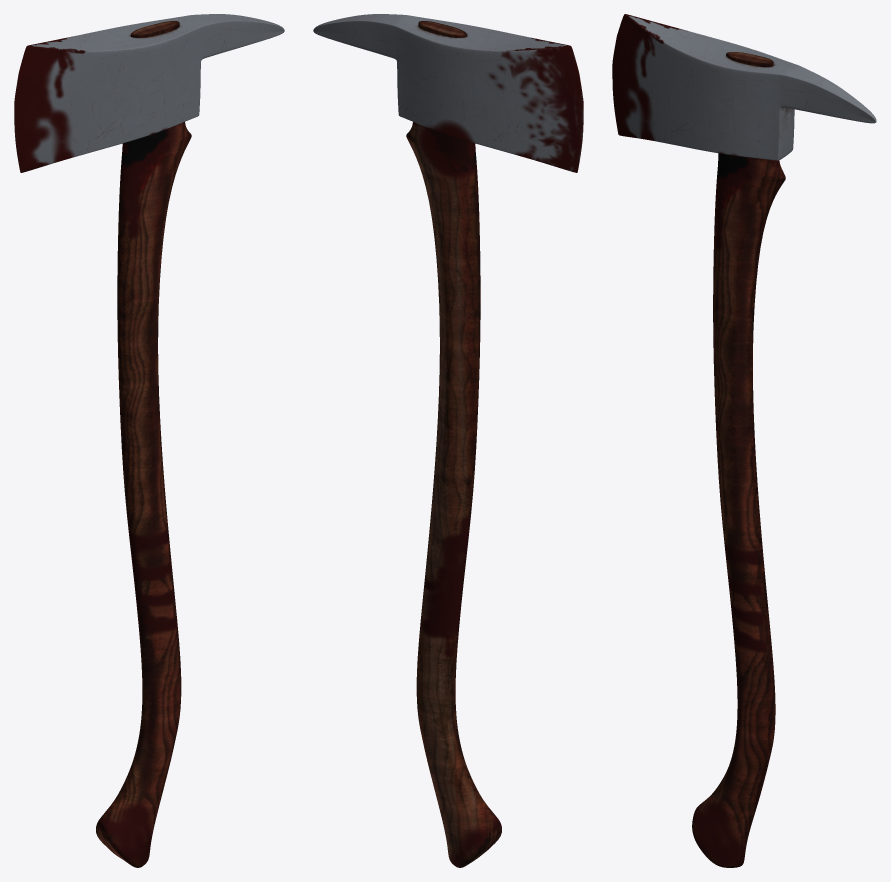
Rendered from Hacha_Sangre.glb.
3 renders of one model, left to right at view 1: azimuth 30°, elevation 25°; view 2: azimuth 150°, elevation 25°; view 3: azimuth 330°, elevation 25°, orthographic. The views are drawn at different scales.
Visible parts, largest first — view 1: 3D_Fireaxe_1; view 2: 3D_Fireaxe_1; view 3: 3D_Fireaxe_1.
Part boxes in pixels (left/top/right/bottom): 3D_Fireaxe_1: left=14, top=14, right=284, bottom=867; 3D_Fireaxe_1: left=313, top=14, right=583, bottom=867; 3D_Fireaxe_1: left=612, top=14, right=876, bottom=867.
Bounding box in the file's own units: 1.58 × 4.72 × 0.275.
1 material, 1 textured.
